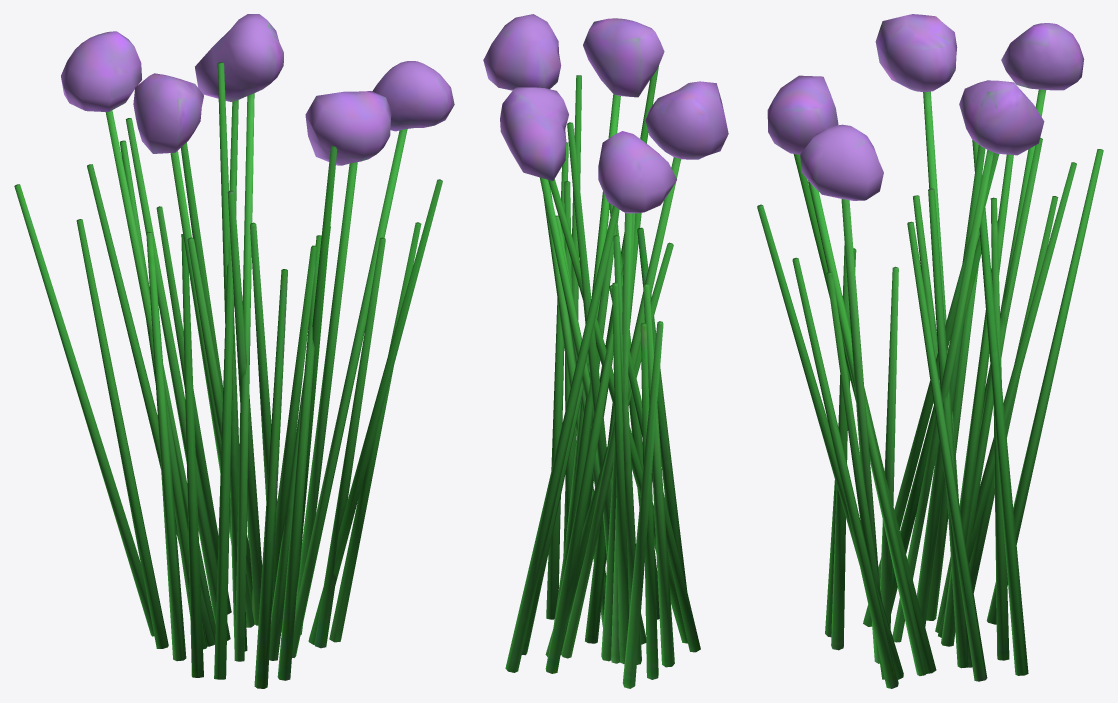
The model's file is crop_chives.glb.
3 views of the same model, side by side, from view 1: azimuth 30°, elevation 25°; view 2: azimuth 150°, elevation 25°; view 3: azimuth 270°, elevation 25° (orthographic). The views are drawn at different scales.
Parts seen in each view (by area): view 1: crop_chives, fruit; view 2: crop_chives, fruit; view 3: crop_chives, fruit.
Part boxes in pixels (x1,y1,x2,y2): crop_chives: (14, 62, 442, 688); fruit: (61, 14, 454, 165); crop_chives: (505, 66, 700, 688); fruit: (483, 14, 728, 213); crop_chives: (757, 89, 1103, 688); fruit: (767, 14, 1084, 200).
Size of the model in its own units: 0.1562 by 0.2954 by 0.156.
1 material, 1 textured.
